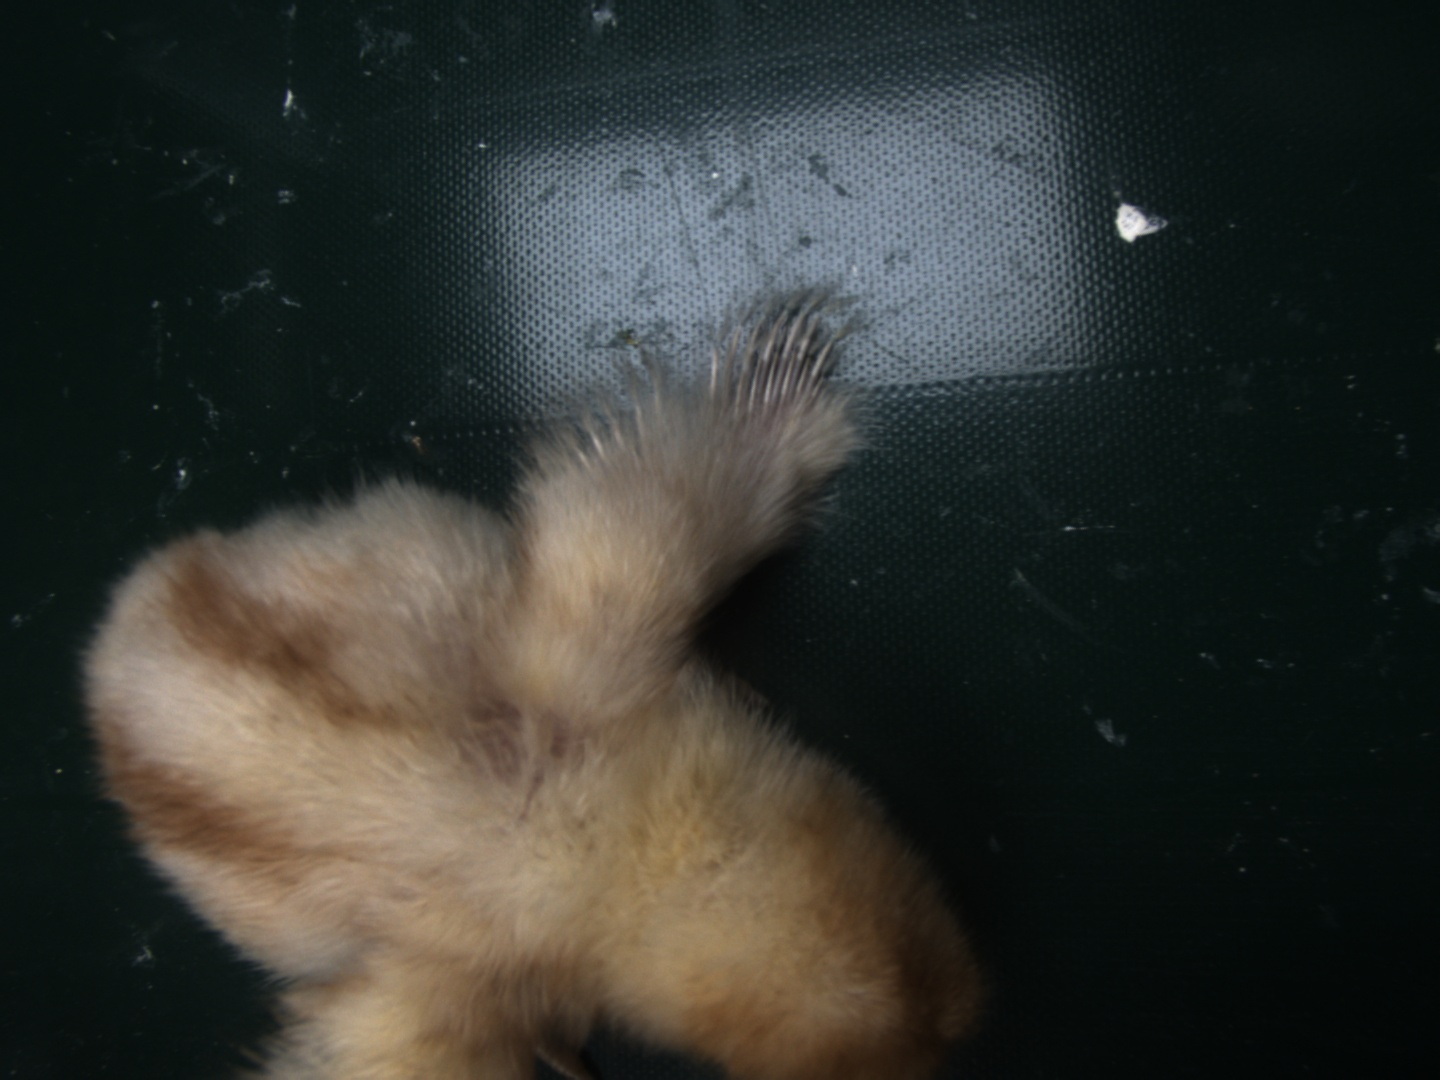female: (695, 302, 842, 425)
